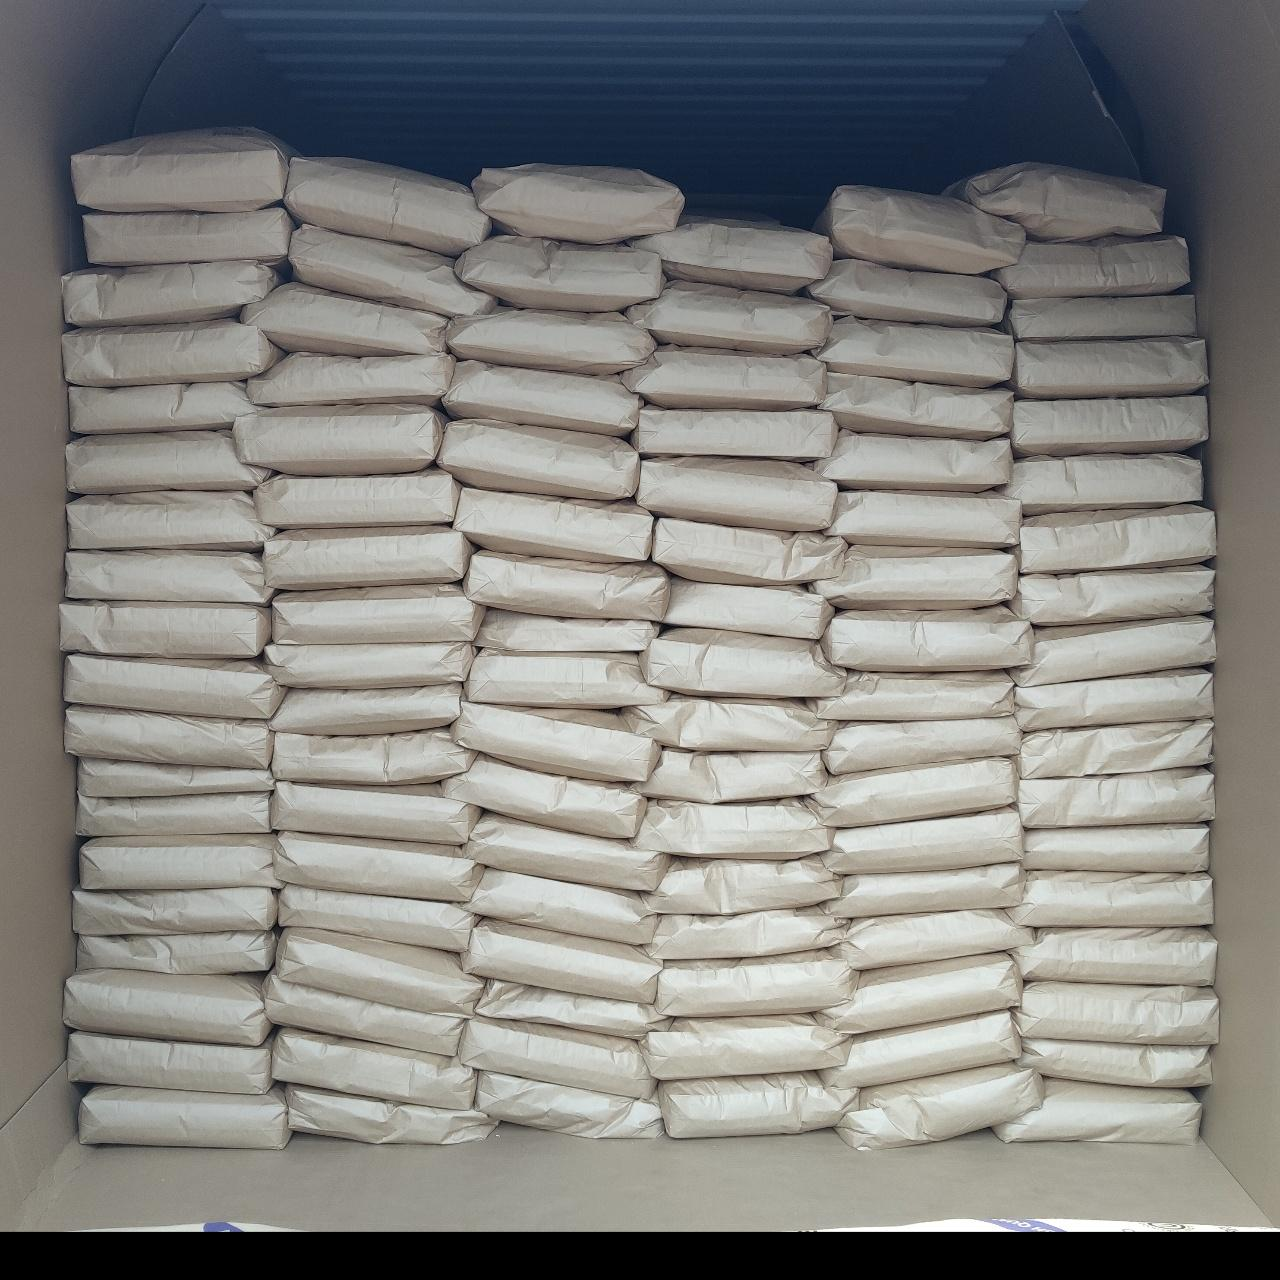sack: (283, 158, 490, 256), (72, 126, 297, 212), (288, 224, 496, 317), (272, 927, 482, 1015), (815, 186, 1025, 274), (837, 1064, 1044, 1148), (264, 972, 470, 1056), (944, 162, 1166, 239), (471, 163, 684, 243), (441, 754, 643, 838), (462, 919, 662, 1003), (271, 1028, 475, 1110), (451, 702, 660, 780), (465, 813, 671, 892), (820, 953, 1022, 1033), (460, 1017, 655, 1099), (437, 421, 638, 500), (63, 969, 269, 1045), (241, 281, 449, 356), (632, 215, 831, 293), (455, 236, 663, 309), (625, 281, 832, 354), (823, 1011, 1020, 1087), (64, 319, 283, 387), (442, 361, 643, 435), (235, 404, 444, 475), (806, 757, 1017, 827), (636, 457, 836, 530), (453, 488, 652, 561), (64, 654, 285, 719), (274, 832, 482, 901), (63, 261, 283, 326), (464, 869, 657, 943), (463, 551, 668, 620), (1012, 617, 1215, 686), (817, 316, 1012, 387), (821, 606, 1033, 671), (640, 1014, 851, 1079), (995, 1077, 1201, 1143), (447, 309, 656, 374), (656, 949, 858, 1016), (79, 1085, 290, 1149), (807, 259, 1008, 326), (641, 629, 844, 695), (824, 807, 1022, 874), (1017, 506, 1215, 573), (262, 526, 472, 589), (278, 885, 475, 952), (818, 371, 1012, 439), (660, 1071, 858, 1137), (621, 345, 825, 409), (65, 705, 272, 768), (271, 781, 481, 843), (652, 518, 848, 584), (67, 431, 269, 494), (68, 1031, 270, 1094), (812, 546, 1017, 608), (991, 236, 1189, 300), (1014, 669, 1213, 732), (1015, 982, 1217, 1044), (272, 585, 484, 644), (1010, 395, 1208, 458), (84, 206, 295, 265), (287, 1084, 497, 1143), (1009, 566, 1214, 626), (814, 429, 1012, 491), (1000, 454, 1201, 515), (476, 1072, 661, 1138), (67, 491, 273, 550), (253, 469, 459, 528), (634, 798, 833, 859), (1012, 927, 1216, 985), (621, 696, 835, 751), (1009, 339, 1208, 398), (465, 650, 667, 708), (60, 602, 269, 658), (1019, 769, 1214, 828), (823, 716, 1021, 774), (840, 910, 1034, 969), (825, 491, 1022, 548), (66, 551, 273, 605), (822, 862, 1025, 917), (1010, 871, 1212, 926), (475, 979, 665, 1037), (1019, 722, 1212, 779), (80, 834, 279, 889), (248, 353, 454, 406), (646, 857, 840, 913), (631, 406, 838, 458), (271, 729, 474, 782), (661, 577, 833, 639), (646, 907, 845, 959), (641, 749, 830, 803), (269, 683, 462, 734), (69, 382, 256, 434), (72, 887, 277, 934), (264, 643, 475, 688), (816, 672, 1013, 720), (1019, 1040, 1211, 1087), (1021, 825, 1208, 872), (77, 791, 271, 835), (78, 931, 276, 974), (1003, 295, 1196, 339), (474, 609, 659, 653), (78, 758, 273, 797)
